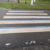zebra: (1, 11, 50, 34)
